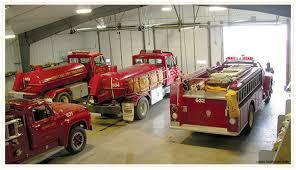Fire-engine: (166, 56, 282, 132), (11, 42, 112, 114), (90, 52, 180, 128), (0, 96, 92, 157), (199, 48, 237, 111), (107, 60, 141, 130), (165, 79, 267, 90)
